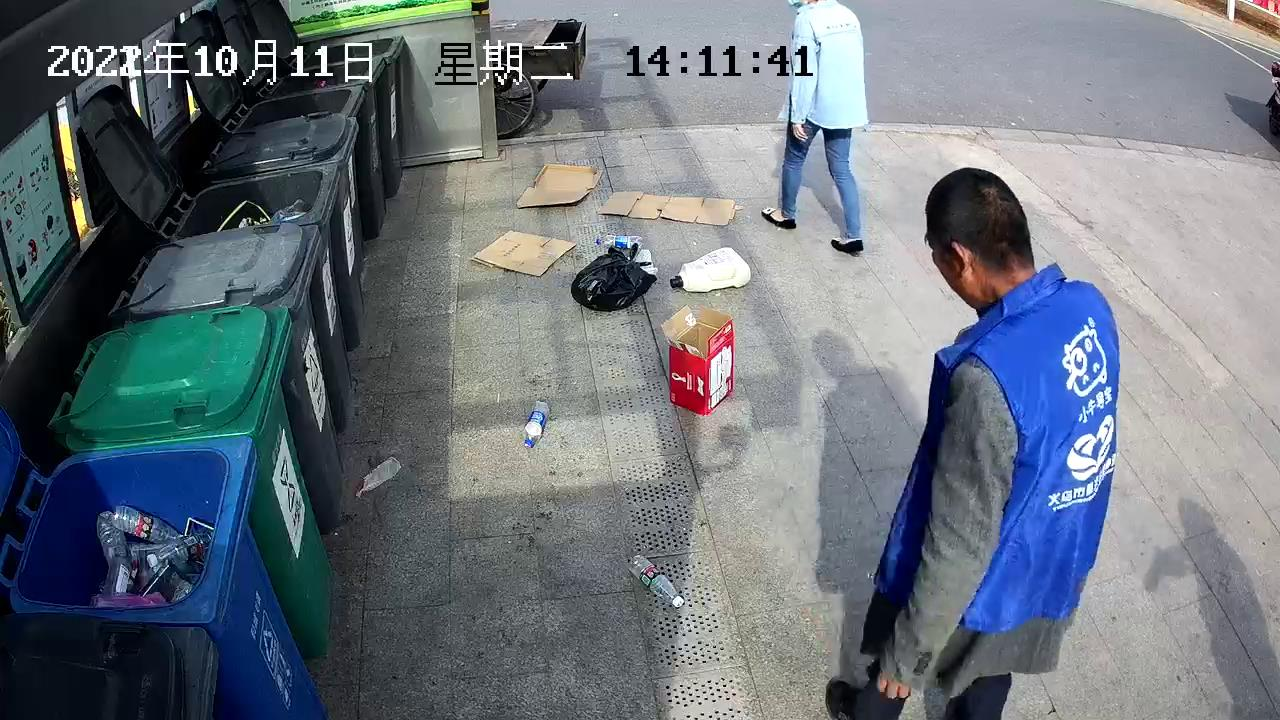garbage-bag: (569, 241, 659, 314)
suliaozhipin: (667, 245, 754, 294), (625, 550, 685, 610), (354, 455, 403, 501), (522, 397, 550, 448), (592, 230, 644, 253)
worker: (823, 165, 1122, 720), (760, 1, 871, 255)
zhizhipin: (658, 302, 738, 418), (599, 189, 742, 229), (470, 228, 579, 279), (513, 160, 604, 210)
